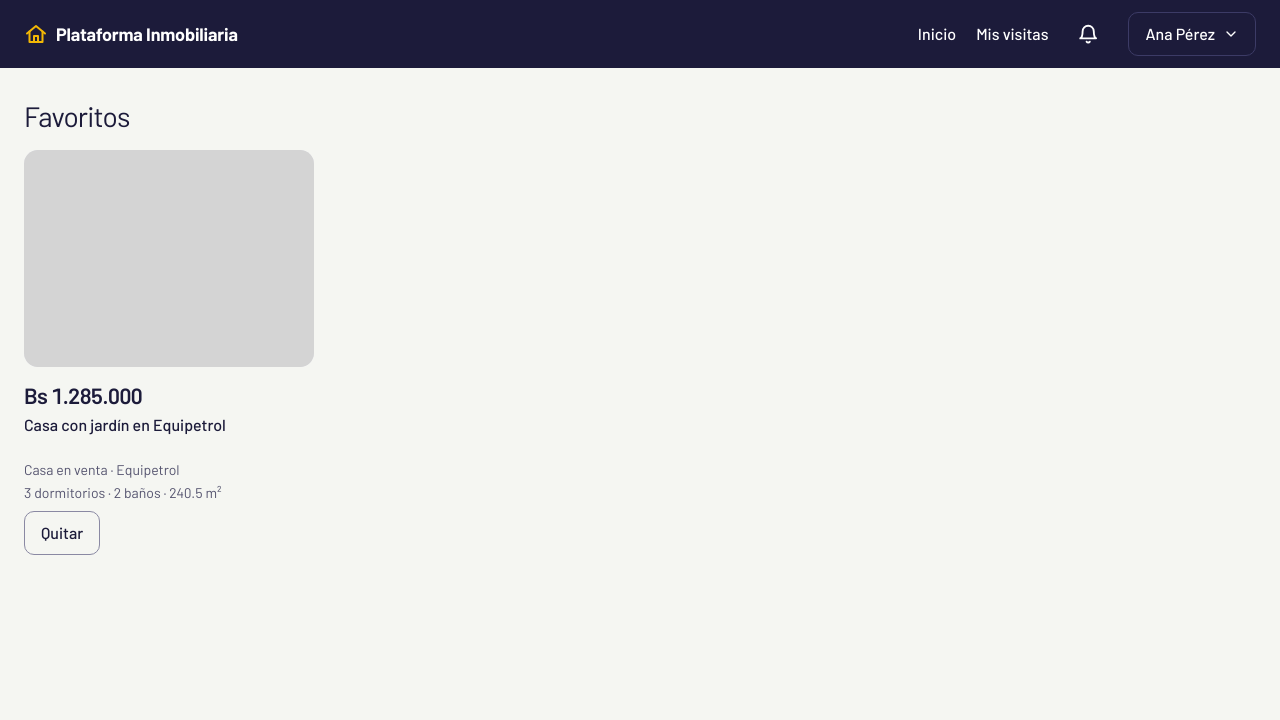
Scenario: FavoritesPage › removes a favorite and refreshes the list
The image size is (1280, 720).
What coordinates should you click on to do the following:
click the button with aria-label "Quitar de favoritos"
I would click on:
 (62, 533)
Its box is top-left (24, 511), bottom-right (100, 555).
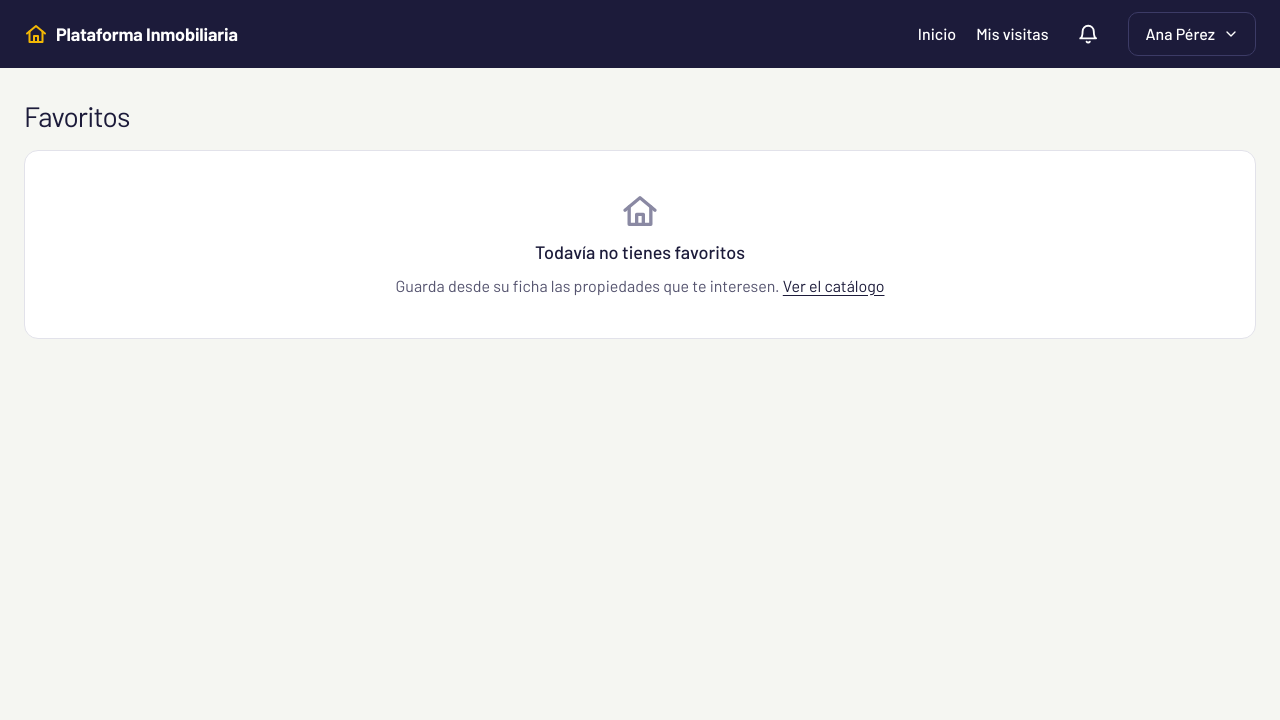
Result: the text "Todavía no tienes favoritos" is shown at top-left (535, 239), bottom-right (745, 266)
